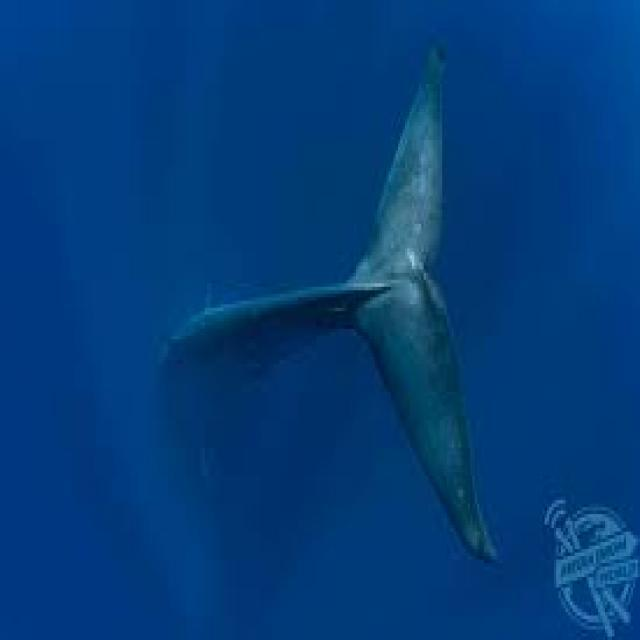blue_whale: (96, 45, 500, 626)
